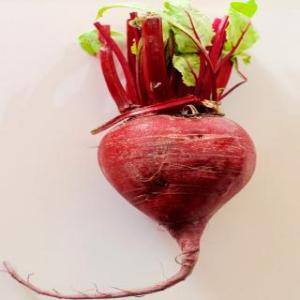beet: (96, 59, 255, 246)
